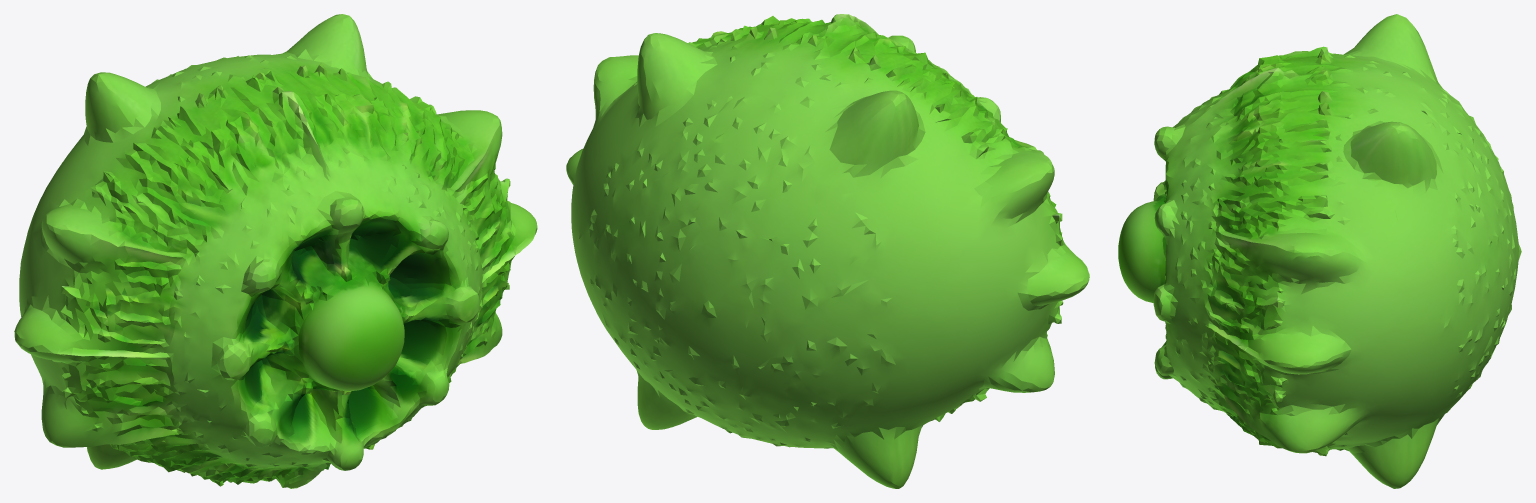
Rendered from mantis_engine_aux.glb.
3 renders of one model, left to right at view 1: azimuth 30°, elevation 25°; view 2: azimuth 150°, elevation 25°; view 3: azimuth 270°, elevation 25°, orthographic. The views are drawn at different scales.
Parts seen in each view (by area): view 1: mantis_engine_aux; view 2: mantis_engine_aux; view 3: mantis_engine_aux.
Part boxes in pixels (left/top/right/bottom): mantis_engine_aux: left=14, top=14, right=537, bottom=488; mantis_engine_aux: left=566, top=14, right=1089, bottom=488; mantis_engine_aux: left=1118, top=14, right=1521, bottom=488.
Bounding box in the file's own units: 1.9 × 1.4 × 1.4.
Materials: 1 (1 with a texture image).
